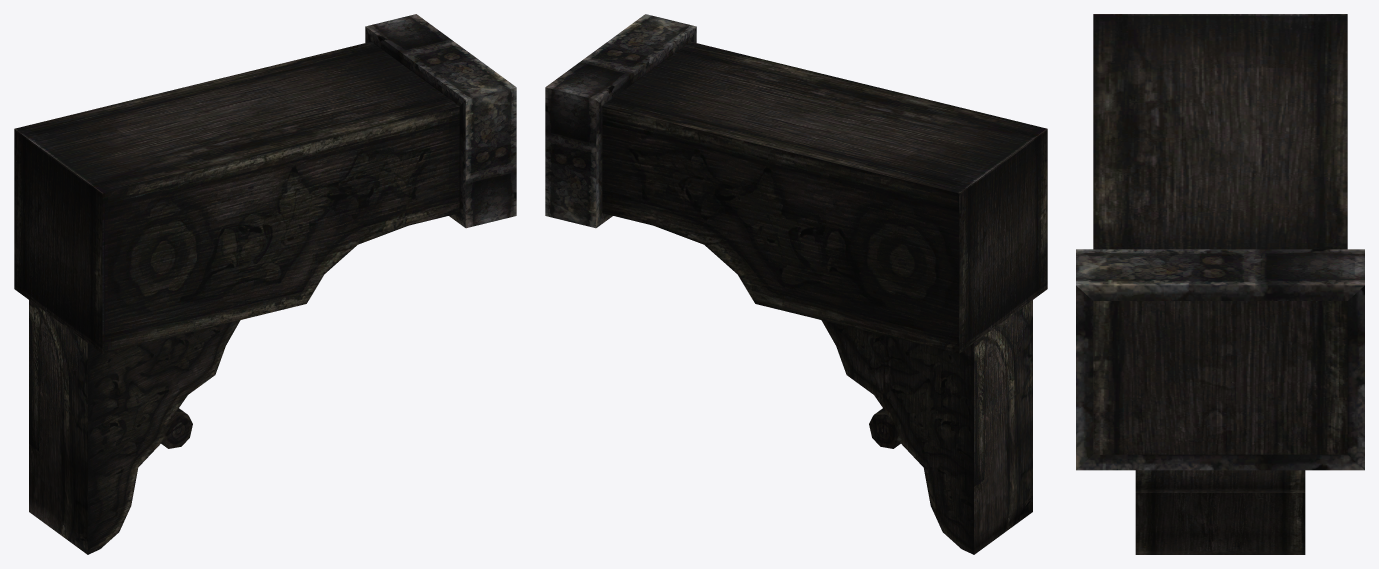
File: welder_wood_edge.dae
The picture shows the model from 3 angles, left to right: view 1: azimuth 30°, elevation 25°; view 2: azimuth 150°, elevation 25°; view 3: azimuth 270°, elevation 25°; orthographic projection. The views are drawn at different scales.
Visible parts, largest first — view 1: polySurface3; view 2: polySurface3; view 3: polySurface3.
Boxes of the visible parts, box(x1,y1,x2,y2) form: polySurface3: box(14, 14, 516, 554); polySurface3: box(545, 14, 1047, 554); polySurface3: box(1076, 14, 1364, 554).
Size of the model in its own units: 2 by 1.79 by 0.8513.
